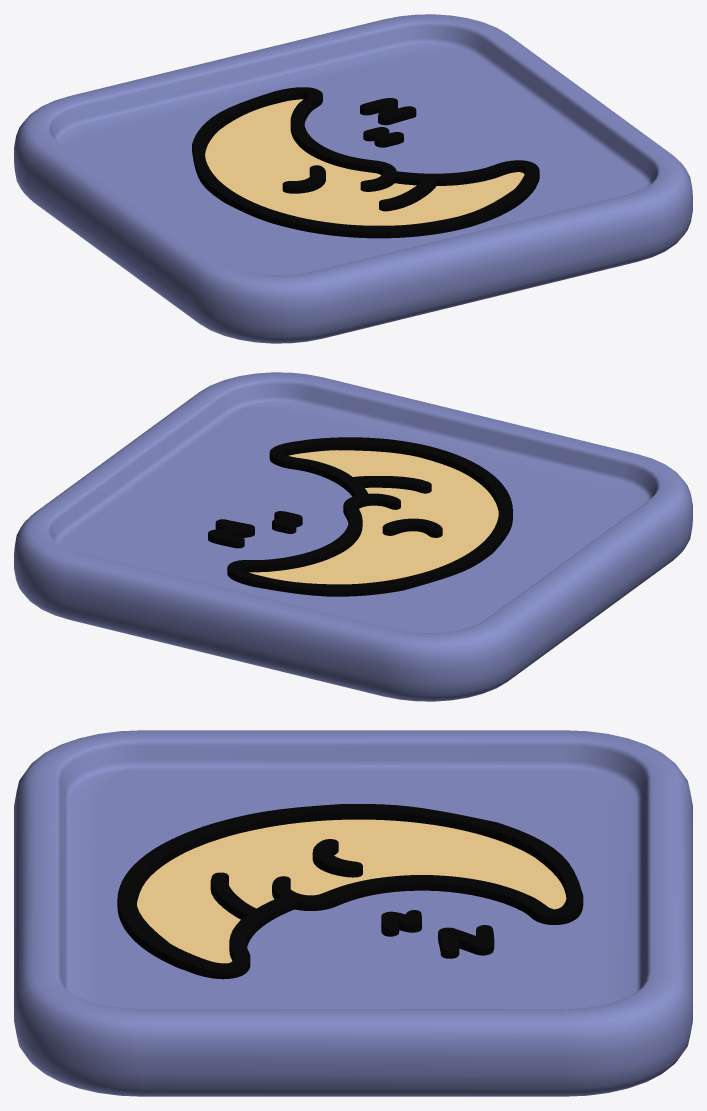
Rendered from moon_tile.fbx.
3 renders of one model, top to bottom at view 1: azimuth 30°, elevation 25°; view 2: azimuth 150°, elevation 25°; view 3: azimuth 270°, elevation 25°, orthographic. The views are drawn at different scales.
Parts seen in each view (by area): view 1: moon_cube, moon_lines; view 2: moon_cube, moon_lines; view 3: moon_cube, moon_lines.
Boxes of the visible parts, <box> form: moon_cube: <box>14,14,692,343</box>; moon_lines: <box>192,87,539,238</box>; moon_cube: <box>14,372,692,701</box>; moon_lines: <box>208,437,512,596</box>; moon_cube: <box>14,730,692,1096</box>; moon_lines: <box>117,804,583,979</box>.
Bounding box in the file's own units: 1201 × 143 × 1128.
